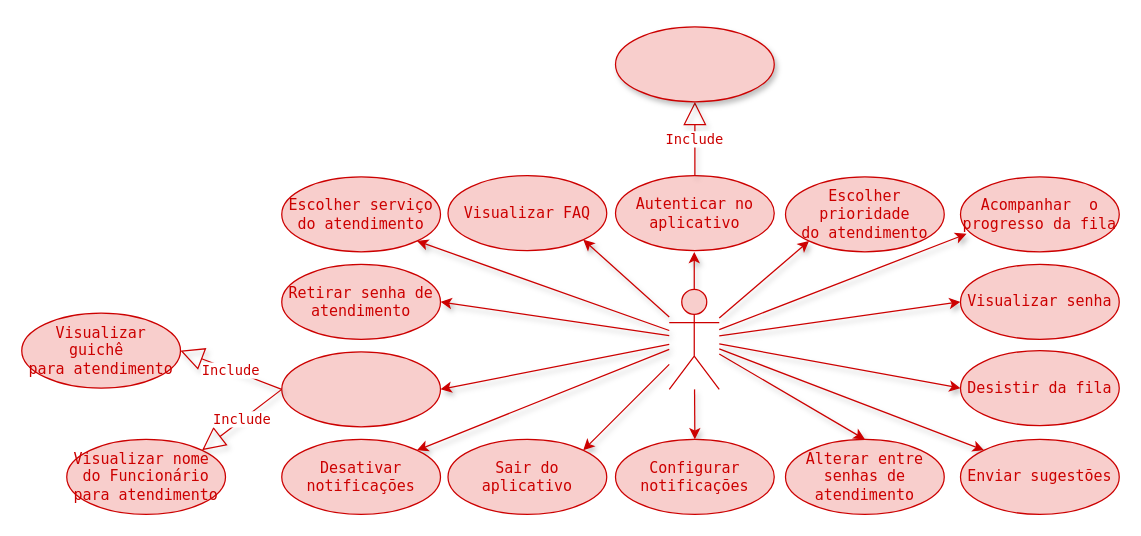
Image size: 1141x536. Some labels were removed from this diagram. The shapes that lost their labels are listed below. From the top down, each one's centre as x and y in pixels, then its label:
At pixel 695 66: "Inserir código de acesso".
At pixel 693 338: "Cliente".
At pixel 360 389: "Receber notificações".
